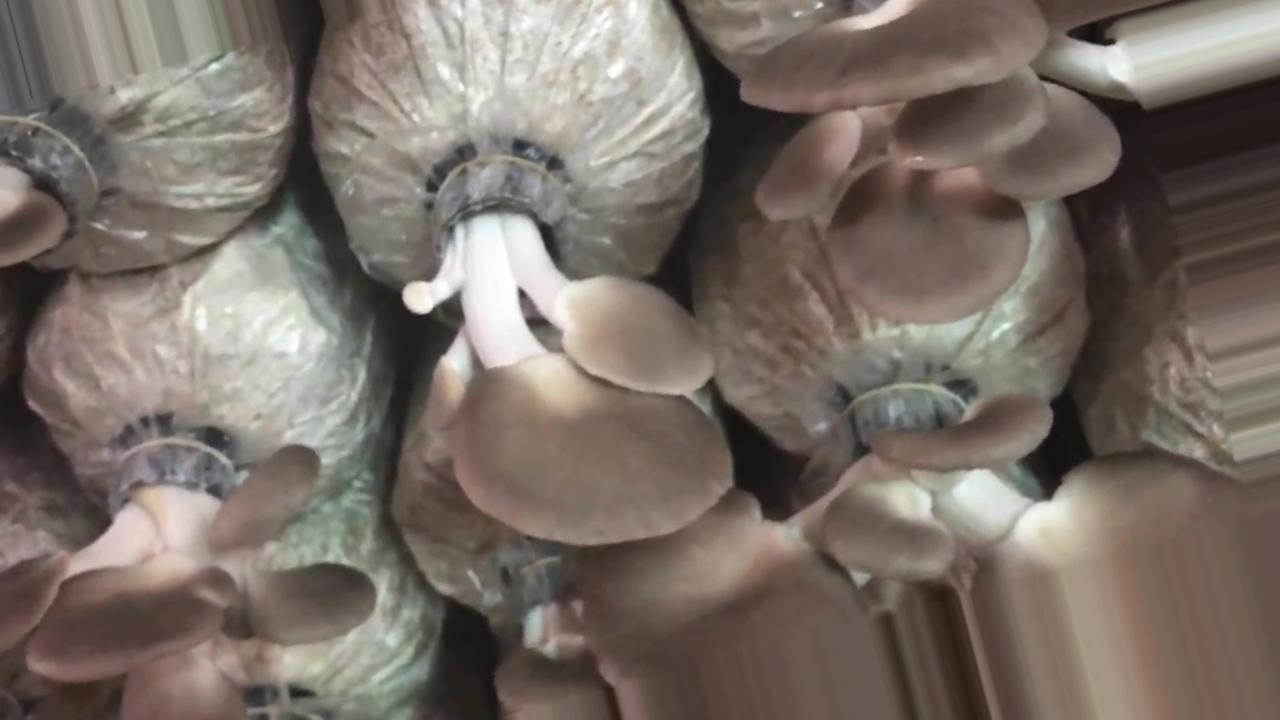nam: (586, 362, 1280, 718), (396, 157, 736, 553), (748, 1, 1125, 327), (1, 438, 380, 719), (477, 546, 605, 720)
